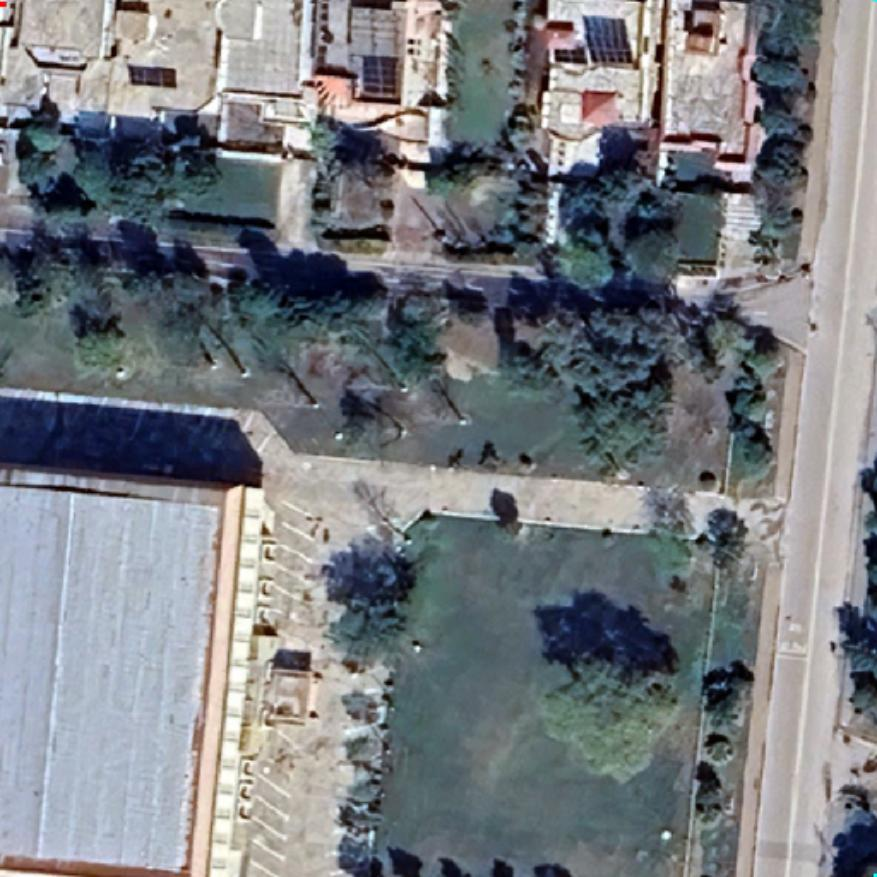Solarpanel: (578, 12, 638, 68), (358, 50, 404, 102), (123, 61, 181, 92), (548, 43, 592, 68)
